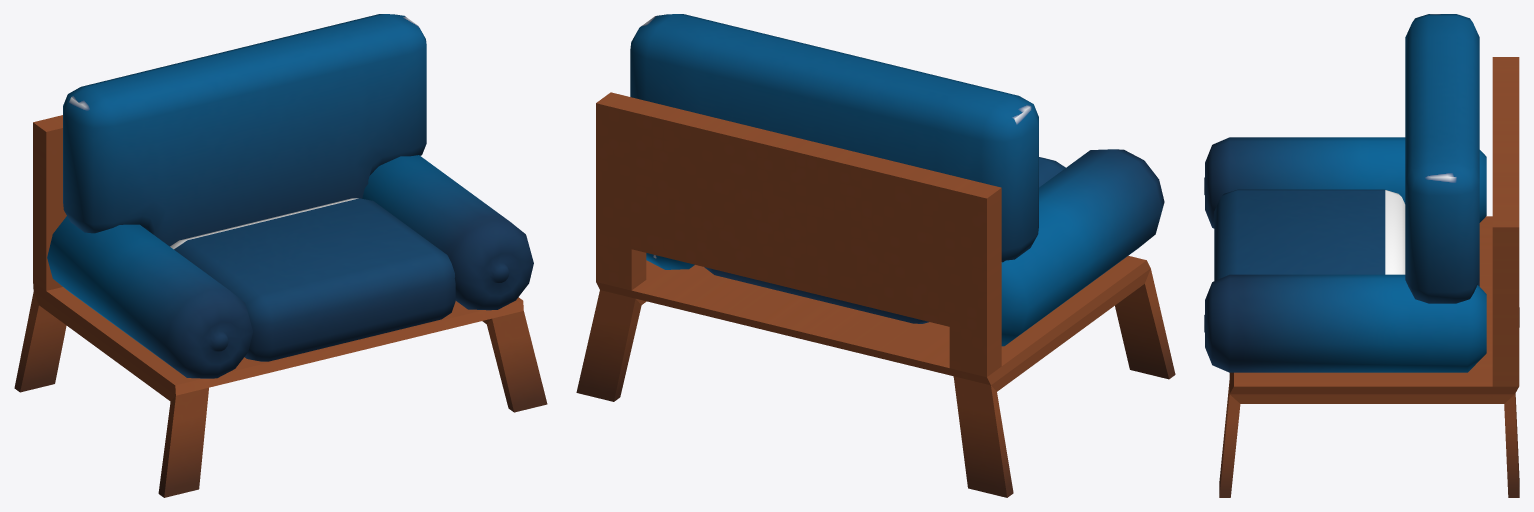
File: furniture_sofa1.fbx
The picture shows the model from 3 angles, left to right: view 1: azimuth 30°, elevation 25°; view 2: azimuth 150°, elevation 25°; view 3: azimuth 270°, elevation 25°; orthographic projection. The views are drawn at different scales.
Parts seen in each view (by area): view 1: furniture_sofa1; view 2: furniture_sofa1; view 3: furniture_sofa1.
Boxes of the visible parts, bbox=[...] form: furniture_sofa1: bbox=[14, 14, 547, 497]; furniture_sofa1: bbox=[576, 14, 1175, 497]; furniture_sofa1: bbox=[1204, 14, 1519, 497].
Size of the model in its own units: 1.4 by 0.9948 by 1.1.
